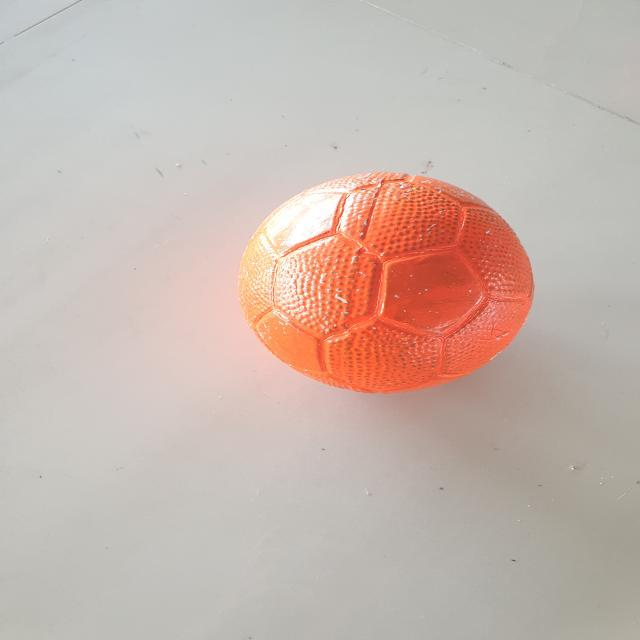bola: (232, 165, 537, 402)
